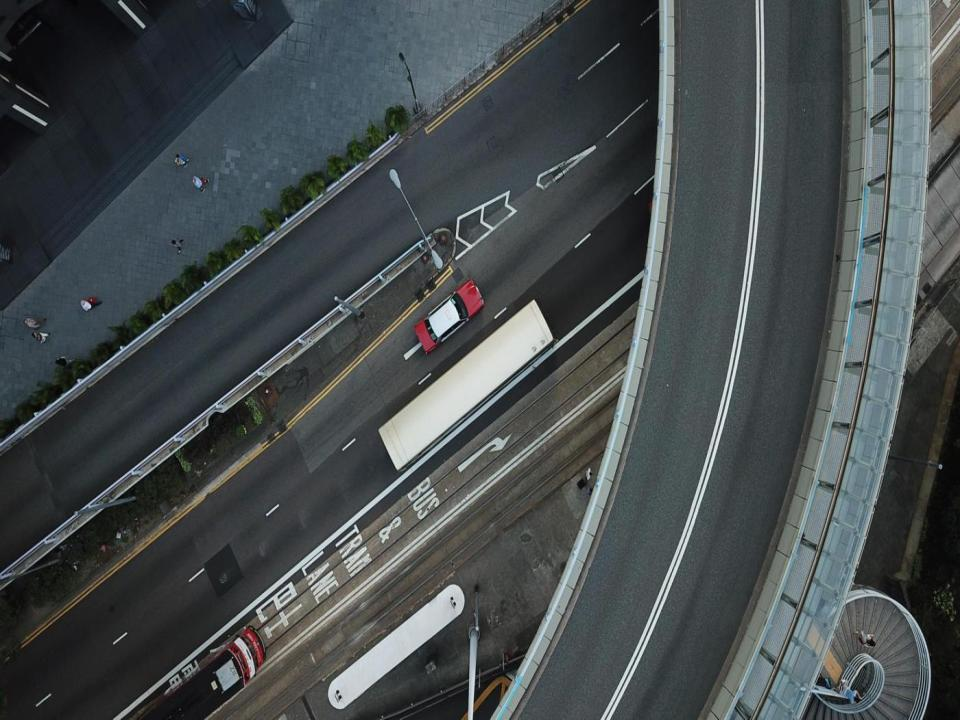bus: (378, 298, 559, 471), (126, 625, 266, 719)
car: (415, 278, 483, 355)
